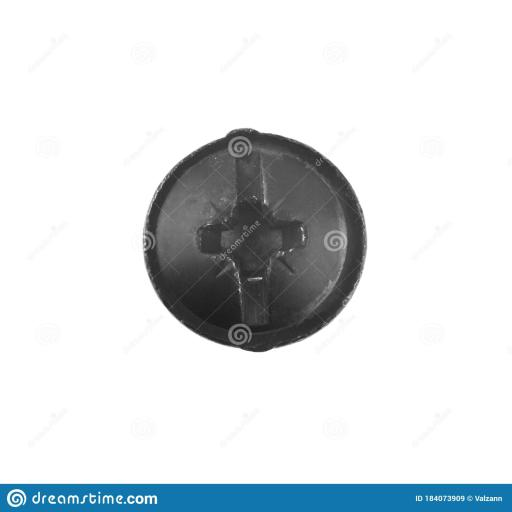Phillips: (146, 126, 368, 353)
